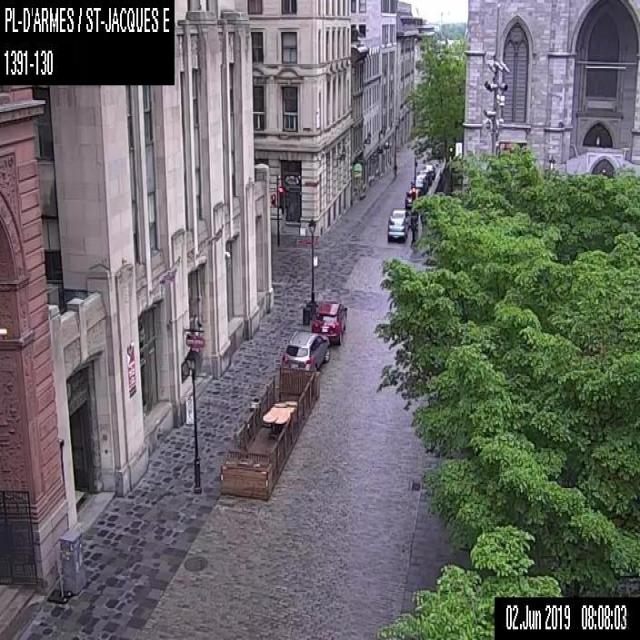vehicle: (281, 329, 329, 369), (311, 301, 347, 345), (386, 208, 411, 241), (404, 187, 422, 208), (410, 176, 426, 194), (422, 164, 435, 179)
